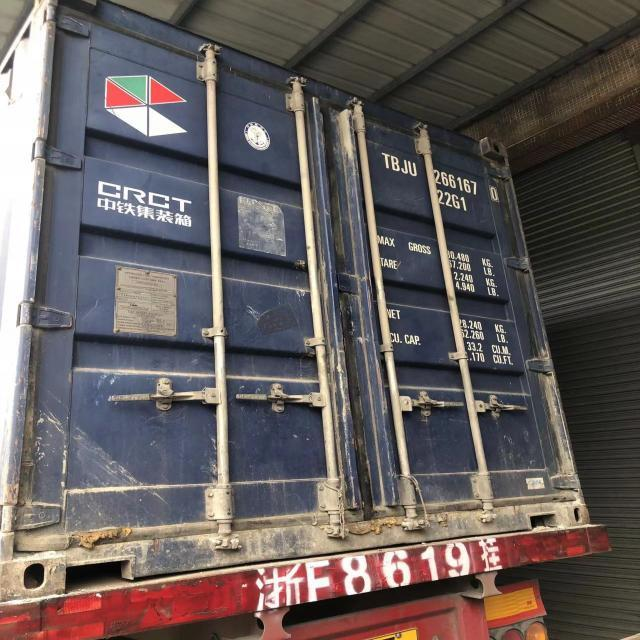ISO: (440, 194, 470, 212)
container_number: (378, 143, 504, 201)
